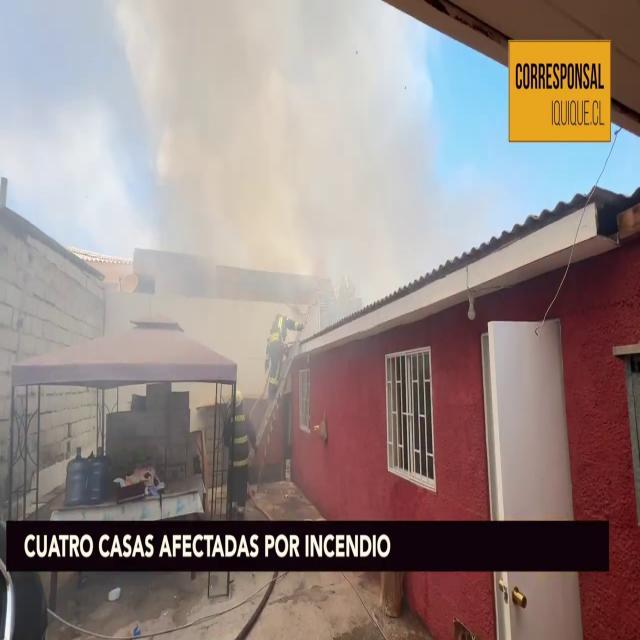Smoke: (129, 0, 461, 365)
